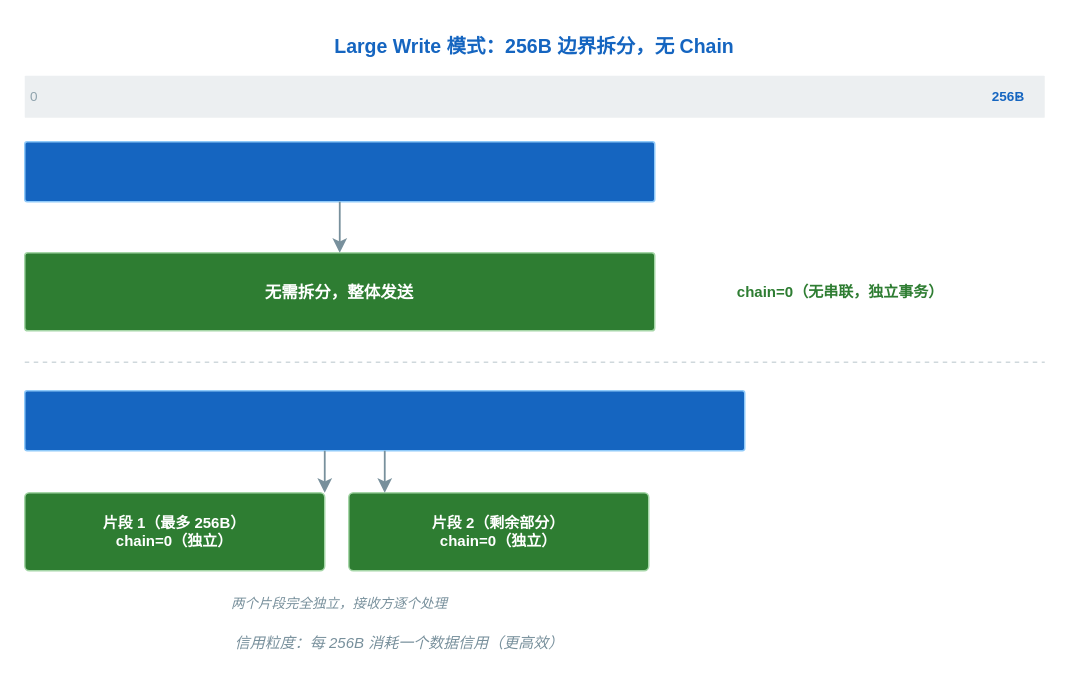
Image size: 1070x677. Some labels were removed from this diagram. The shapes that lost their labels are listed below. From the top down, each one's centre as x and y in pixels, then its label:
At point (339, 171): "原始写事务（160B，在同一个 256B 窗口内）".
At point (384, 420): "原始写事务（跨越 256B 边界，总长 300B）".
